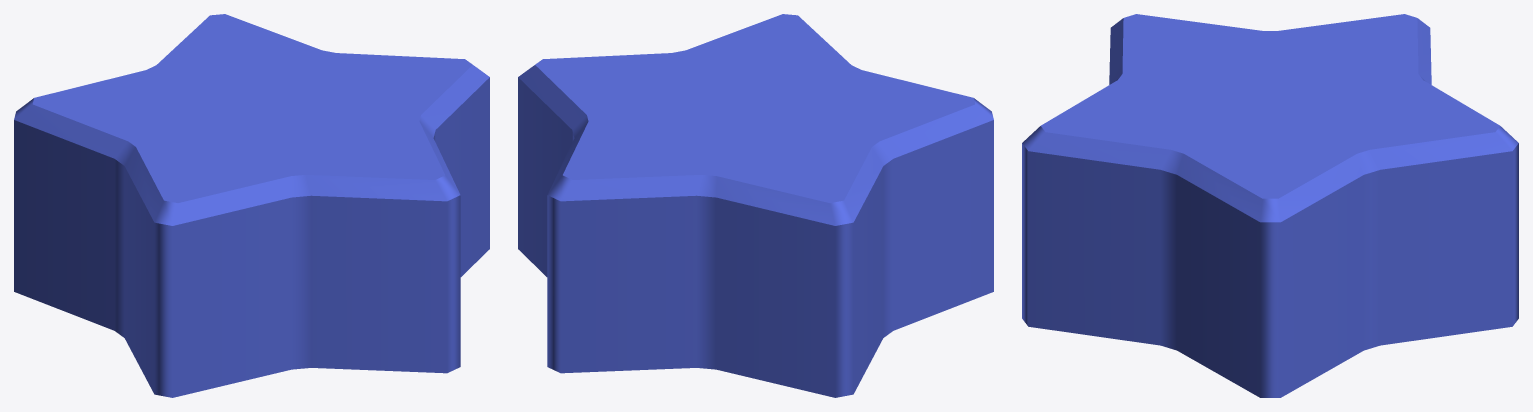
The model's file is BtnSta02.fbx.
3 views of the same model, side by side, from view 1: azimuth 30°, elevation 25°; view 2: azimuth 150°, elevation 25°; view 3: azimuth 270°, elevation 25° (orthographic). The views are drawn at different scales.
Visible parts, largest first — view 1: BtnSta02; view 2: BtnSta02; view 3: BtnSta02.
Part boxes in pixels (<box>): BtnSta02: <box>14,14,489,397</box>; BtnSta02: <box>518,14,993,397</box>; BtnSta02: <box>1022,14,1518,397</box>.
Size of the model in its own units: 2.17 by 0.9715 by 2.29.
